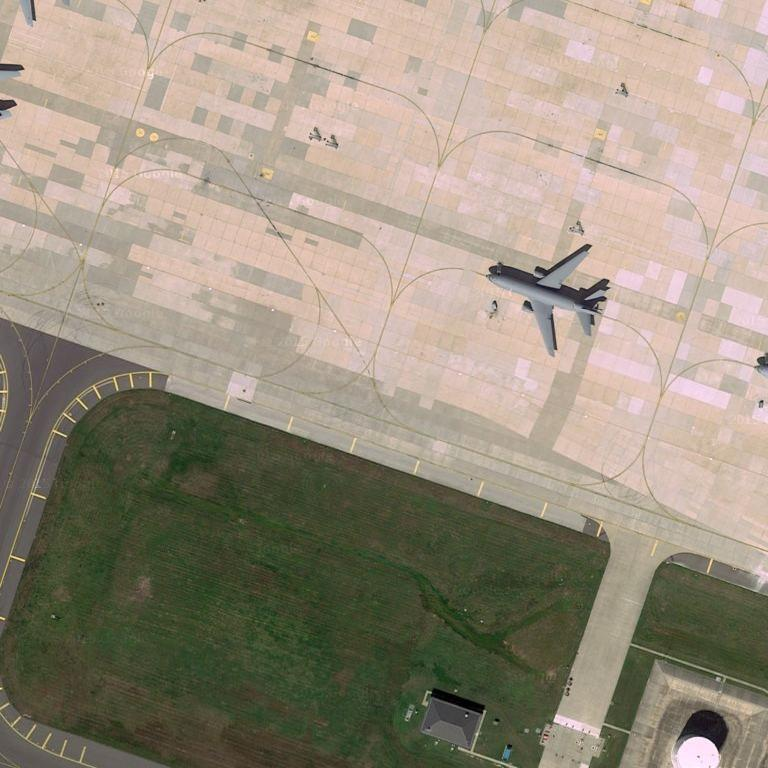KC-10: (487, 237, 613, 355)
